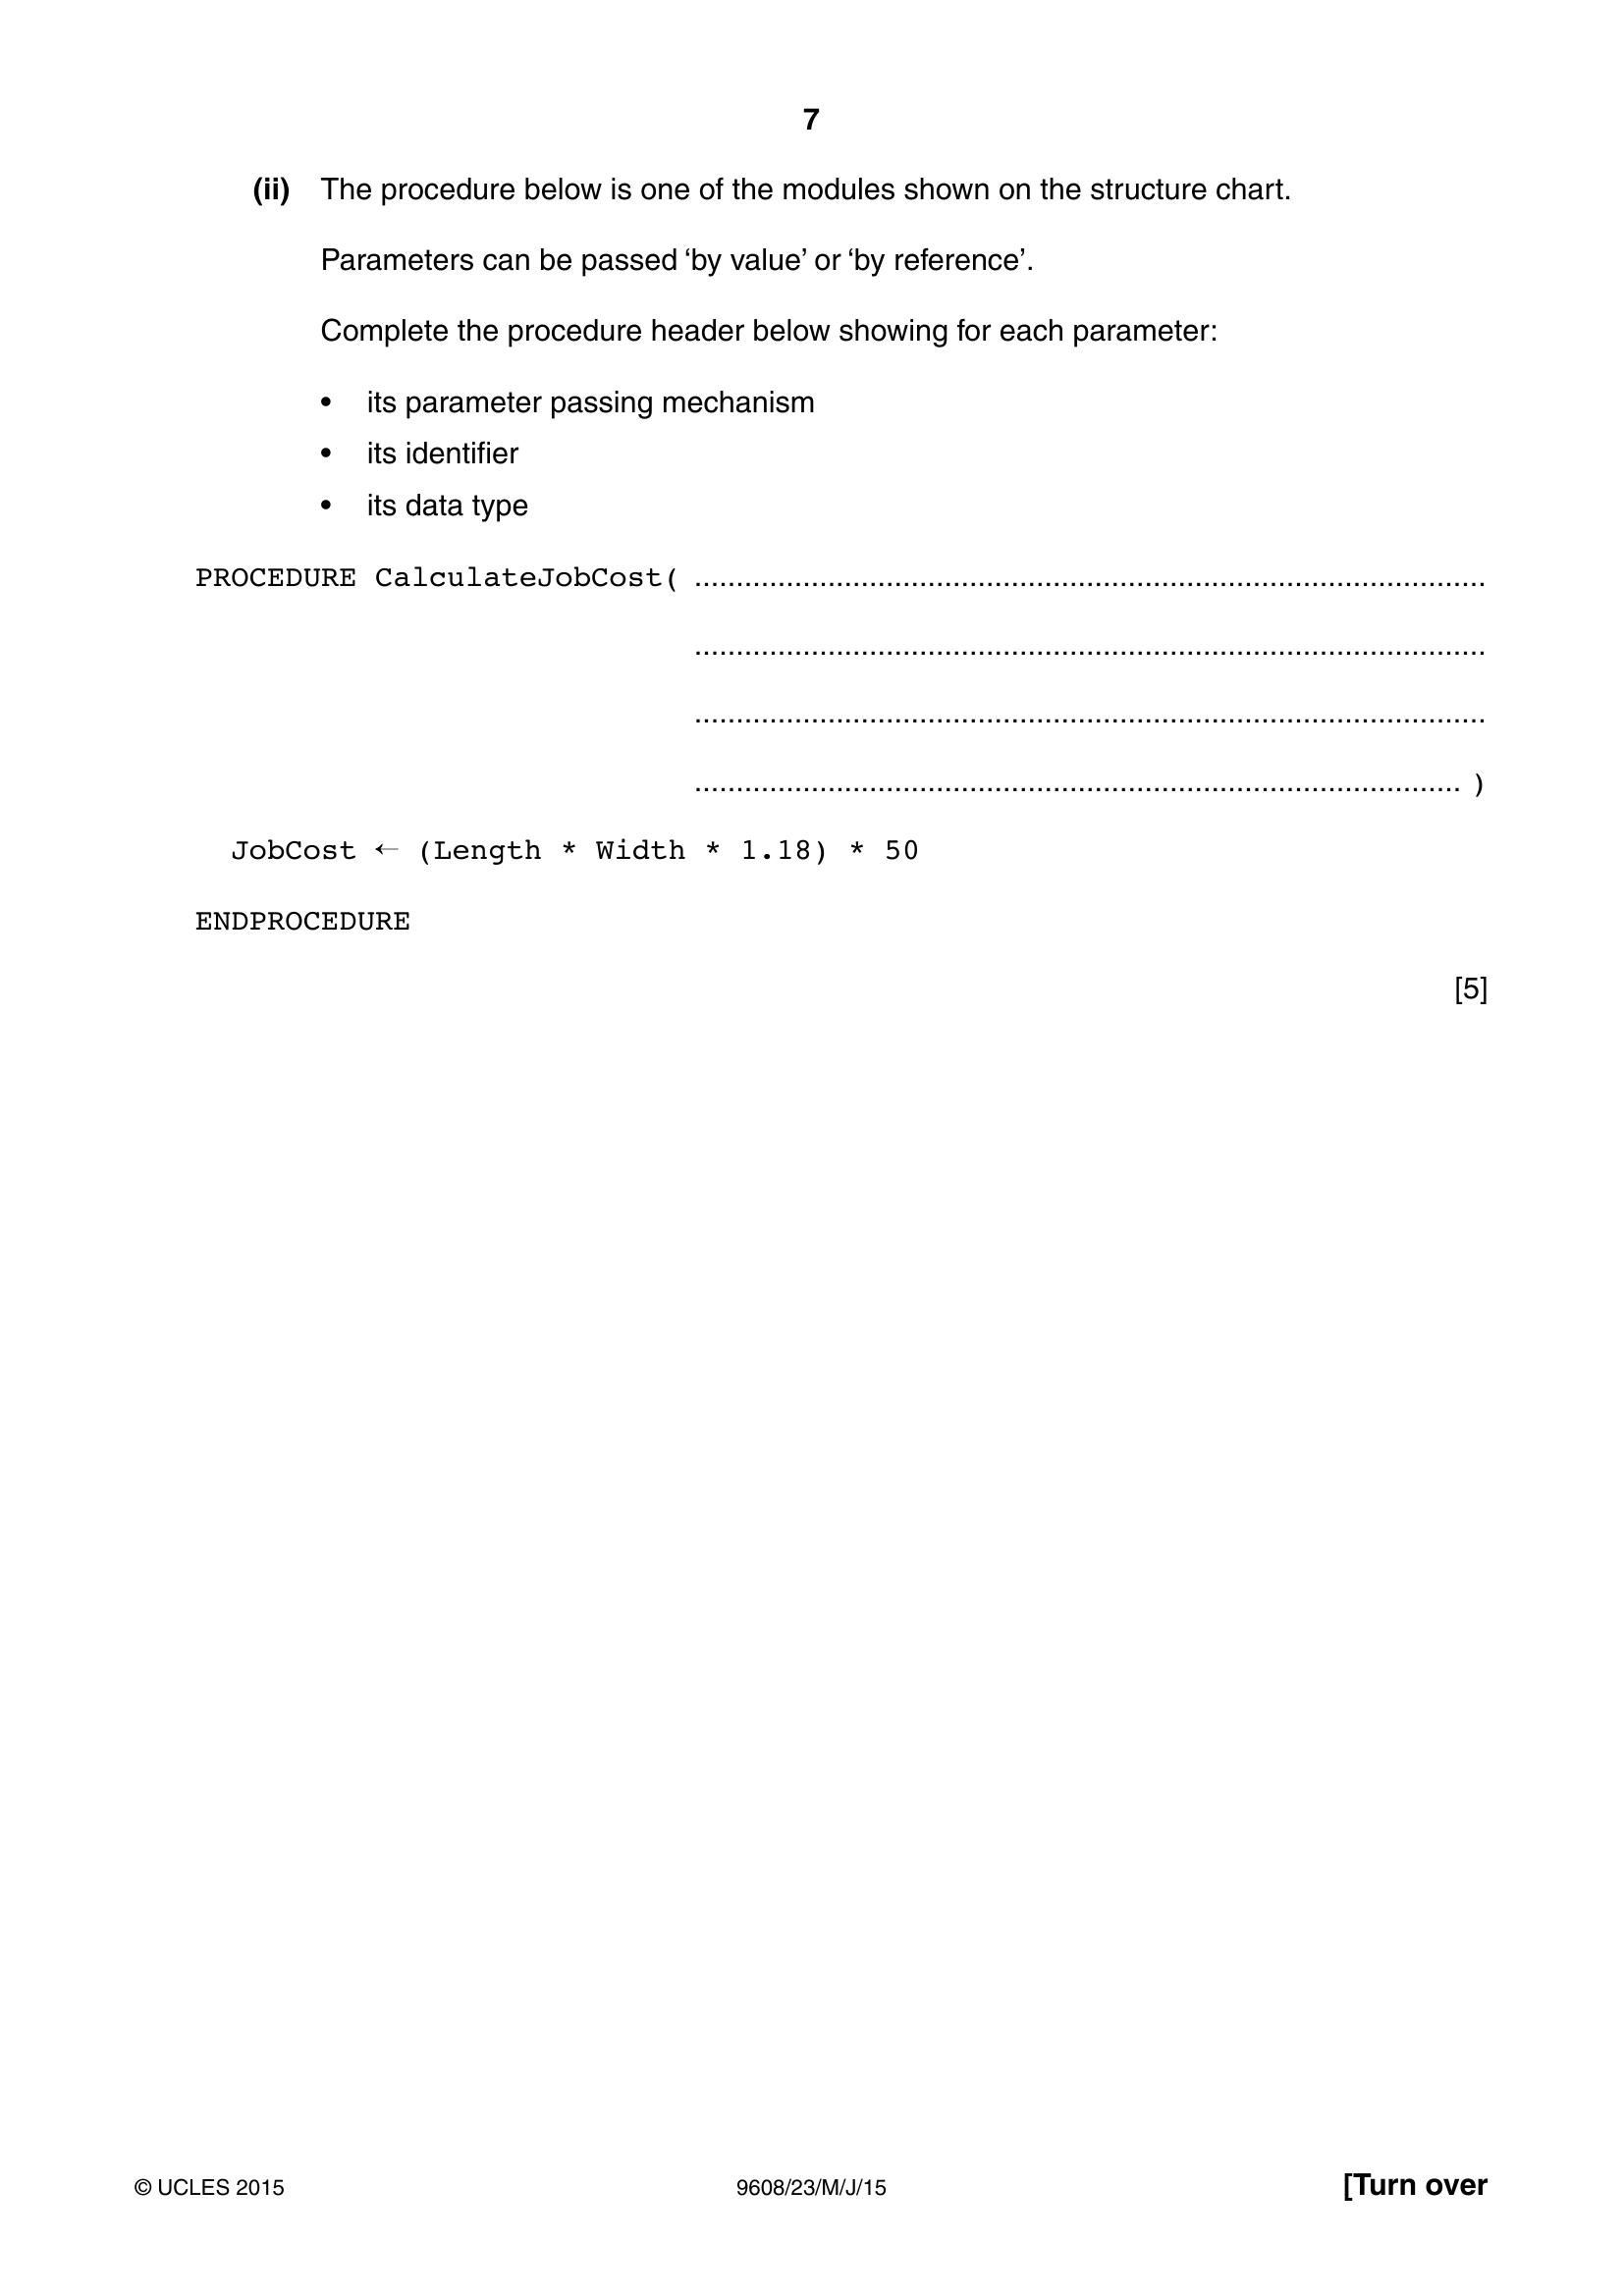continued question: (2, 151, 1624, 1098)
